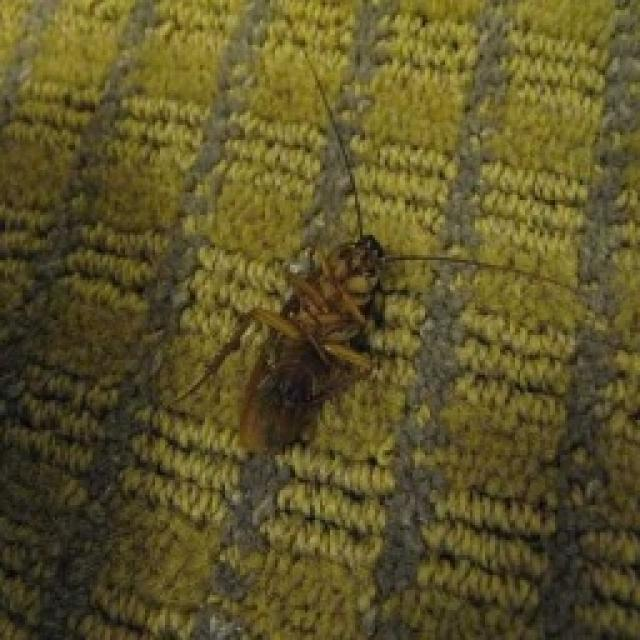cockroach: (152, 185, 422, 547)
